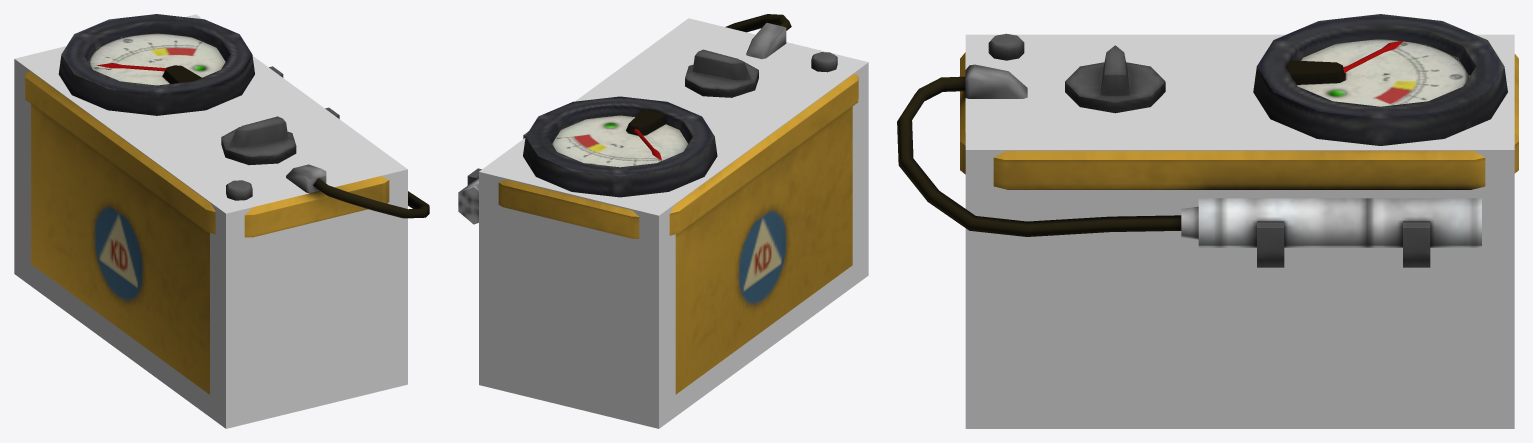
The model's file is Probe_GeigerCounter.FBX.
3 views of the same model, side by side, from view 1: azimuth 30°, elevation 25°; view 2: azimuth 150°, elevation 25°; view 3: azimuth 270°, elevation 25° (orthographic). The views are drawn at different scales.
Visible parts, largest first — view 1: GeigerCounter_Col, GeigerCounter, Dial, Button; view 2: GeigerCounter_Col, GeigerCounter, Dial, Button; view 3: GeigerCounter_Col, GeigerCounter, Dial, Button.
Boxes of the visible parts, x1,y1,x2,y2 form: GeigerCounter_Col: [14, 14, 407, 428]; GeigerCounter: [25, 14, 429, 394]; Dial: [221, 116, 296, 165]; Button: [226, 180, 252, 200]; GeigerCounter_Col: [479, 18, 868, 428]; GeigerCounter: [458, 14, 858, 394]; Dial: [685, 49, 758, 97]; Button: [811, 52, 837, 72]; GeigerCounter_Col: [965, 34, 1514, 428]; GeigerCounter: [897, 14, 1518, 267]; Dial: [1065, 45, 1165, 113]; Button: [988, 33, 1024, 60].
Size of the model in its own units: 12.67 by 12.93 by 22.84.
1 material, 1 textured.
